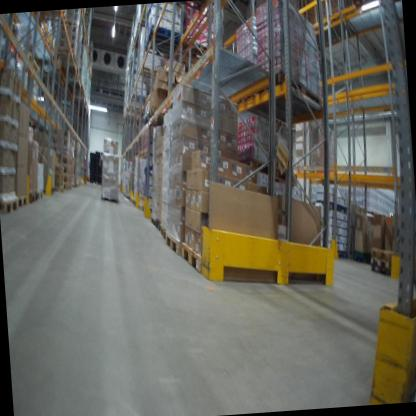pallet: (181, 236, 275, 290), (257, 55, 323, 111), (147, 21, 185, 52), (145, 33, 183, 61), (182, 33, 214, 62), (367, 243, 397, 266), (369, 263, 397, 284), (0, 189, 21, 217), (164, 230, 183, 259), (175, 1, 210, 16), (368, 255, 398, 271), (39, 10, 69, 25), (147, 103, 169, 123), (55, 47, 78, 65), (16, 191, 29, 213), (159, 223, 171, 243), (156, 214, 164, 232), (54, 184, 66, 195), (149, 215, 157, 230)
